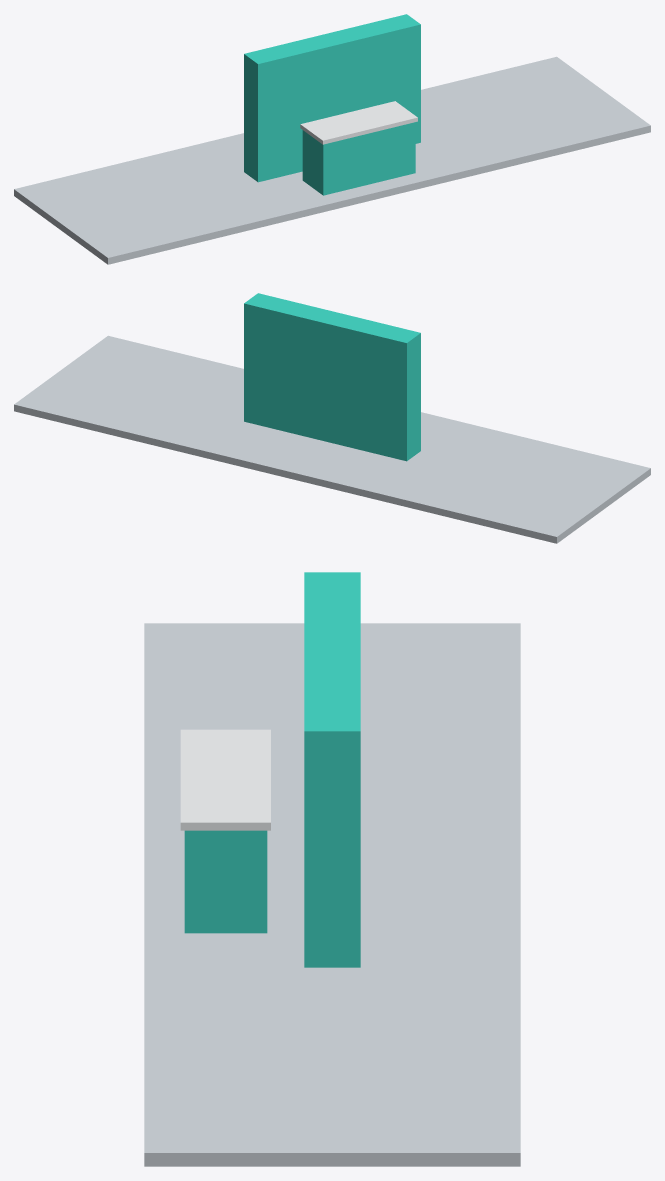
The picture shows the model from 3 angles, top to bottom: view 1: azimuth 30°, elevation 25°; view 2: azimuth 150°, elevation 25°; view 3: azimuth 270°, elevation 25°; orthographic projection. The views are drawn at different scales.
Parts seen in each view (by area): view 1: Exhibition Booth Concept; view 2: Exhibition Booth Concept; view 3: Exhibition Booth Concept.
Boxes of the visible parts, x1=… form: Exhibition Booth Concept: x1=14, y1=14, x2=650, y2=264; Exhibition Booth Concept: x1=14, y1=293, x2=650, y2=543; Exhibition Booth Concept: x1=144, y1=572, x2=520, y2=1166.
Size of the model in its own units: 10 by 2.2 by 3.
